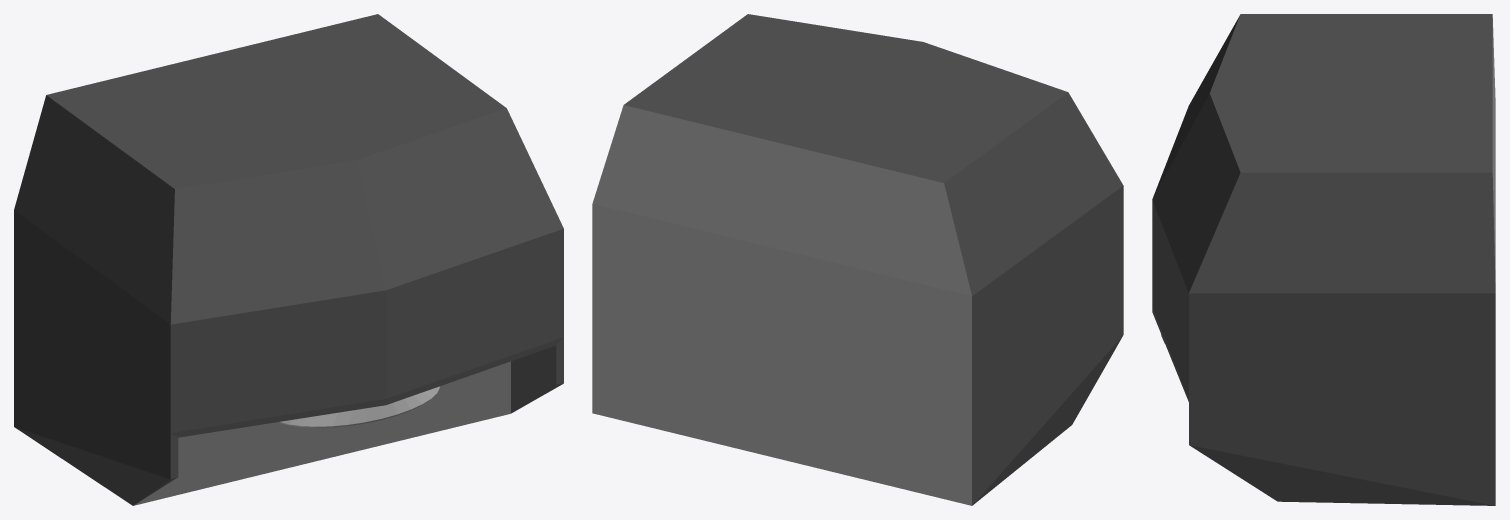
The model's file is Air Hand Dryer #1.fbx.
3 views of the same model, side by side, from view 1: azimuth 30°, elevation 25°; view 2: azimuth 150°, elevation 25°; view 3: azimuth 270°, elevation 25° (orthographic). The views are drawn at different scales.
Parts seen in each view (by area): view 1: Air Hand Dryer #1; view 2: Air Hand Dryer #1; view 3: Air Hand Dryer #1.
Boxes of the visible parts, box(x1,y1,x2,y2) form: Air Hand Dryer #1: box(14, 14, 563, 505); Air Hand Dryer #1: box(592, 14, 1123, 505); Air Hand Dryer #1: box(1152, 14, 1495, 505).
Size of the model in its own units: 60.27 by 47.7 by 46.58.
Materials: 1 (1 with a texture image).
